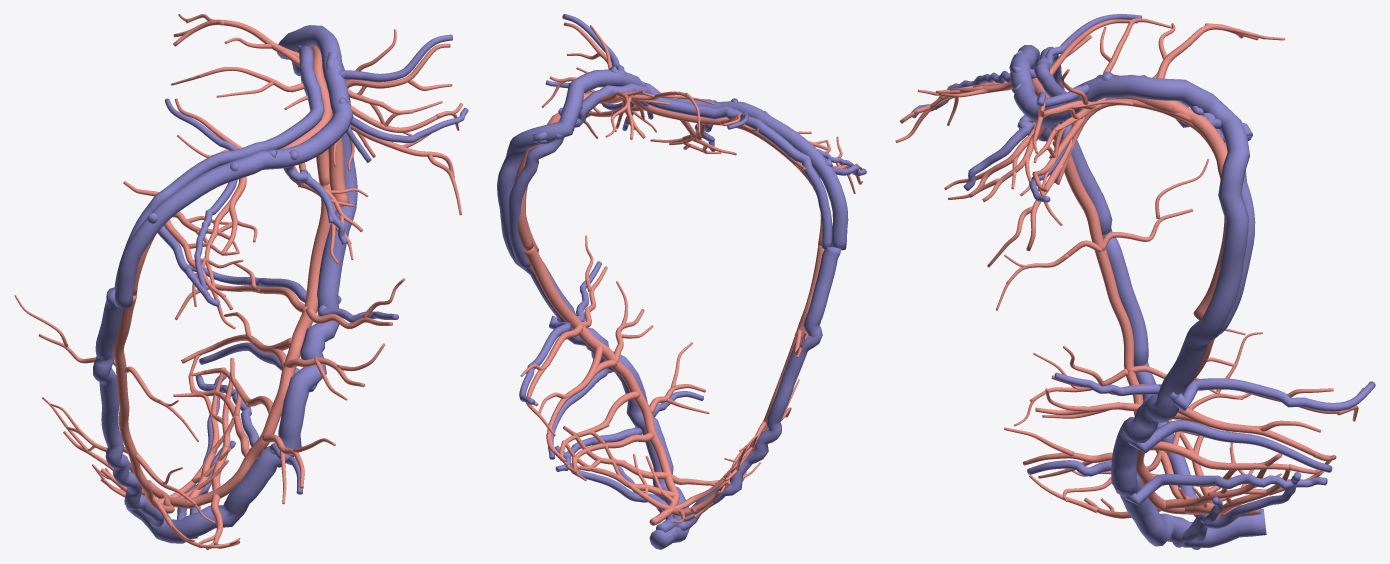
The model's file is vessels_3.glb.
The picture shows the model from 3 angles, left to right: view 1: azimuth 30°, elevation 25°; view 2: azimuth 150°, elevation 25°; view 3: azimuth 270°, elevation 25°; orthographic projection. The views are drawn at different scales.
Visible parts, largest first — view 1: Renderer Node; view 2: Renderer Node; view 3: Renderer Node.
Part boxes in pixels (x1,y1,x2,y2): Renderer Node: (14,14,468,549); Renderer Node: (497,14,866,549); Renderer Node: (895,14,1375,549).
Bounding box in the file's own units: 95.38 × 124 × 95.5.
